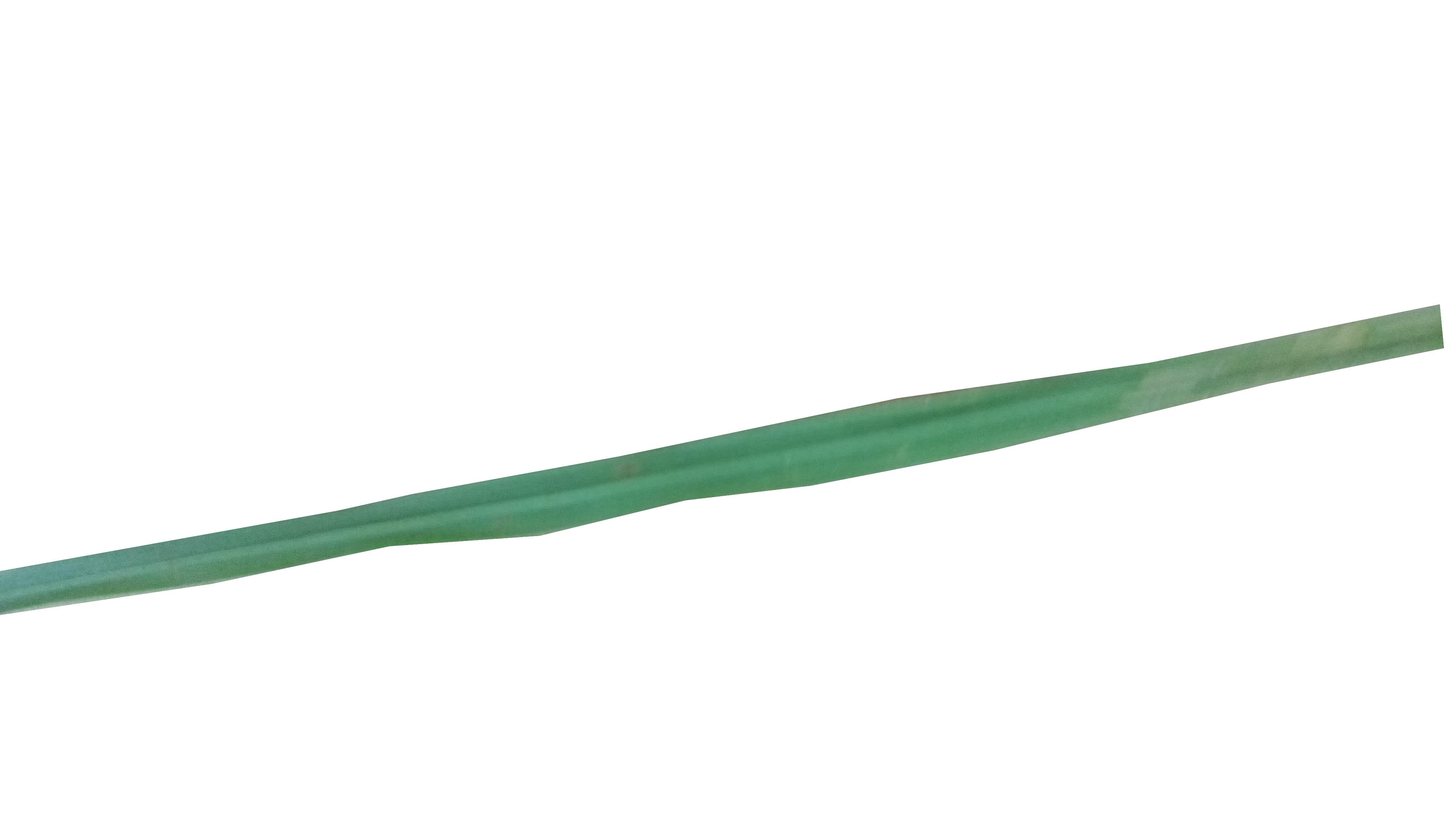Blight: (1134, 295, 1446, 420)
